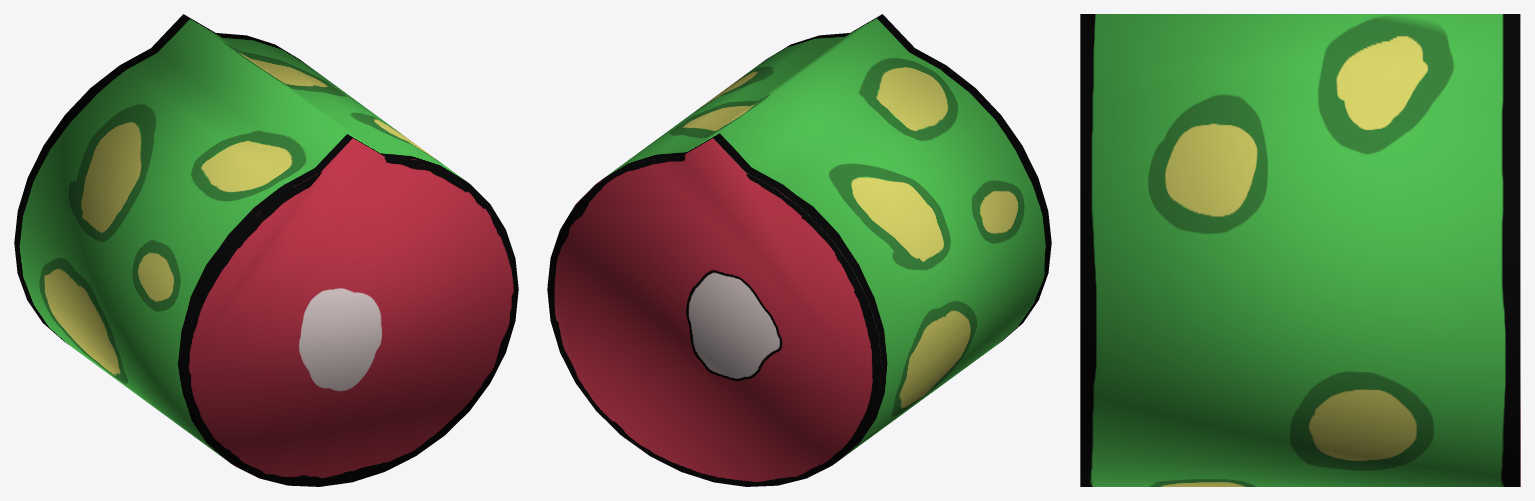
Rendered from snaketaills.fbx.
3 views of the same model, side by side, from view 1: azimuth 30°, elevation 25°; view 2: azimuth 150°, elevation 25°; view 3: azimuth 270°, elevation 25° (orthographic). The views are drawn at different scales.
Visible parts, largest first — view 1: Cylinder; view 2: Cylinder; view 3: Cylinder.
Part boxes in pixels (x1,y1,x2,y2): Cylinder: (14,14,518,486); Cylinder: (547,14,1051,486); Cylinder: (1080,14,1520,486).
Size of the model in its own units: 68.4 by 67.15 by 60.
1 material, 1 textured.
